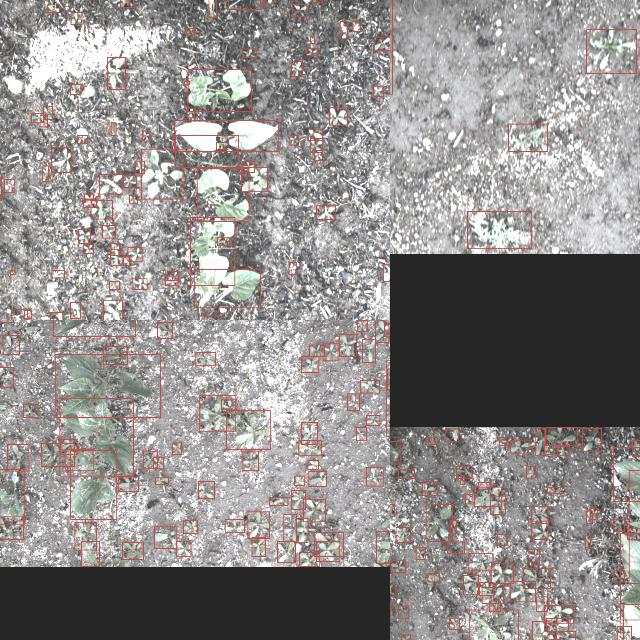crop: (54, 354, 160, 418), (59, 398, 133, 476), (173, 120, 277, 152), (70, 450, 116, 520), (190, 217, 234, 285), (196, 168, 248, 222), (188, 69, 250, 111), (194, 270, 260, 308), (619, 532, 640, 619), (612, 446, 640, 501), (81, 542, 99, 566), (390, 441, 399, 463)
weed: (467, 212, 531, 248), (586, 29, 636, 73), (175, 135, 238, 167), (142, 149, 182, 199), (226, 410, 270, 450), (468, 610, 517, 640), (0, 469, 24, 524), (198, 396, 234, 430), (508, 124, 546, 152), (425, 504, 451, 542), (240, 166, 268, 192), (41, 444, 74, 466), (314, 533, 342, 557), (6, 444, 28, 472), (107, 57, 125, 89), (247, 512, 269, 538), (74, 524, 96, 550), (522, 568, 550, 588), (546, 427, 576, 445), (474, 486, 501, 506), (0, 516, 23, 539), (510, 580, 534, 602), (66, 450, 92, 470), (544, 605, 572, 623), (303, 500, 325, 522), (154, 527, 176, 549), (50, 148, 70, 172), (98, 174, 122, 194), (315, 542, 339, 562), (376, 532, 390, 564), (90, 200, 112, 220), (490, 563, 512, 583), (103, 346, 127, 364), (102, 300, 122, 320), (338, 334, 356, 356), (582, 428, 600, 450), (481, 586, 503, 604), (282, 514, 296, 542), (468, 554, 492, 570), (121, 542, 142, 560), (277, 542, 295, 562), (530, 520, 548, 540), (301, 422, 317, 444), (298, 440, 320, 456), (531, 621, 548, 640), (290, 490, 306, 510), (242, 451, 258, 471), (117, 476, 137, 492), (462, 574, 478, 594), (295, 518, 307, 544), (374, 320, 388, 342), (298, 553, 320, 567), (194, 352, 216, 366), (546, 618, 568, 632), (366, 468, 382, 487), (328, 108, 346, 124), (322, 343, 338, 361), (300, 356, 318, 372), (198, 481, 214, 499), (2, 336, 18, 354), (251, 537, 265, 557), (224, 519, 244, 533), (362, 340, 374, 362), (227, 0, 259, 8), (156, 322, 172, 338), (531, 506, 547, 522), (316, 205, 334, 219), (308, 472, 326, 486), (142, 451, 156, 469), (490, 496, 504, 514), (359, 381, 378, 394), (0, 367, 12, 387), (509, 440, 528, 452), (176, 541, 190, 557), (60, 440, 76, 454), (22, 404, 38, 418), (394, 528, 410, 542), (373, 36, 390, 49), (536, 428, 544, 454), (347, 394, 359, 411), (127, 247, 141, 261), (183, 520, 197, 534), (617, 626, 631, 640), (444, 427, 458, 441), (479, 582, 493, 596), (290, 60, 302, 76), (110, 250, 122, 266), (308, 345, 324, 357), (455, 466, 471, 478), (390, 560, 406, 572), (446, 542, 464, 552), (555, 631, 575, 640), (122, 176, 136, 188), (292, 4, 306, 16), (308, 128, 322, 140), (309, 138, 321, 152), (78, 229, 90, 243), (422, 483, 436, 495), (70, 303, 80, 319), (11, 310, 27, 320), (268, 498, 288, 506), (220, 400, 236, 410), (398, 468, 414, 478), (536, 596, 546, 612), (102, 226, 115, 238), (70, 12, 82, 24), (242, 161, 254, 173), (612, 570, 624, 582), (612, 519, 624, 531), (631, 440, 640, 456), (242, 48, 256, 58), (42, 106, 52, 120), (82, 198, 96, 208), (132, 279, 146, 289), (365, 415, 379, 425), (528, 548, 538, 562), (208, 0, 216, 17), (165, 276, 178, 286), (627, 529, 640, 539), (339, 22, 347, 38), (372, 85, 383, 96), (357, 321, 368, 332), (134, 161, 144, 173), (166, 271, 178, 281), (3, 180, 13, 192), (152, 457, 162, 469), (355, 428, 365, 440), (557, 445, 569, 455), (427, 572, 439, 582), (449, 618, 459, 630), (398, 606, 408, 618), (383, 264, 390, 281), (416, 546, 424, 560), (525, 467, 535, 478), (488, 601, 499, 611), (217, 237, 229, 246), (51, 270, 64, 278), (49, 312, 62, 320), (70, 84, 80, 94), (307, 460, 317, 470), (294, 476, 304, 486), (496, 534, 506, 544), (120, 0, 134, 7), (47, 4, 59, 12), (288, 262, 296, 274), (31, 114, 43, 122), (215, 142, 227, 150), (110, 243, 118, 255), (172, 443, 180, 455), (499, 437, 511, 445), (546, 487, 562, 493), (83, 244, 93, 253), (199, 316, 221, 320), (110, 122, 116, 136), (42, 166, 48, 180), (154, 478, 168, 484), (584, 534, 590, 548), (450, 520, 456, 534), (352, 21, 360, 31), (77, 135, 87, 143), (290, 135, 298, 145), (313, 150, 321, 160), (306, 48, 316, 56), (186, 108, 194, 118), (109, 282, 119, 290), (589, 508, 597, 518), (544, 444, 552, 454), (585, 511, 591, 524), (428, 436, 437, 444), (478, 482, 490, 488), (83, 193, 93, 200), (40, 115, 46, 126), (186, 28, 194, 36), (129, 195, 137, 203), (142, 130, 148, 140), (123, 256, 129, 266), (465, 494, 471, 504), (24, 311, 31, 319), (400, 635, 410, 640), (390, 504, 394, 516), (390, 584, 394, 596), (310, 36, 314, 44), (460, 476, 464, 484), (263, 0, 271, 3), (10, 271, 14, 275), (184, 81, 188, 85)
